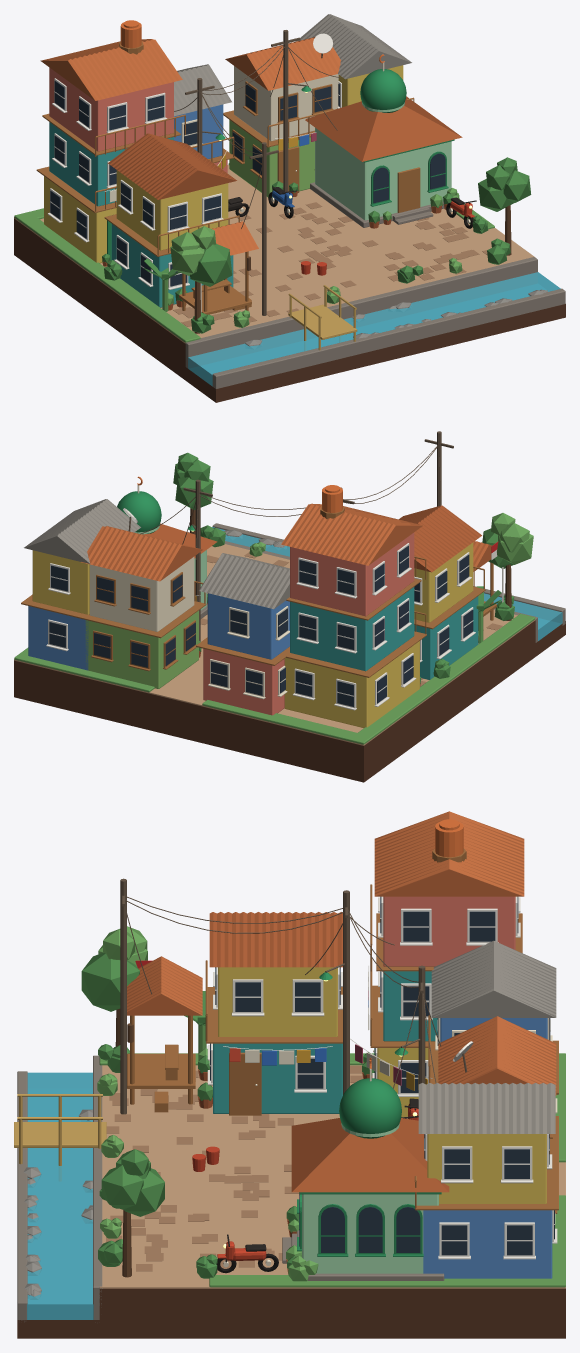
Rendered from lokasi1.glb.
The picture shows the model from 3 angles, top to bottom: view 1: azimuth 30°, elevation 25°; view 2: azimuth 150°, elevation 25°; view 3: azimuth 270°, elevation 25°; orthographic projection. The views are drawn at different scales.
Parts seen in each view (by area): view 1: lokasi1_static, lokasi1_water; view 2: lokasi1_static, lokasi1_water; view 3: lokasi1_static, lokasi1_water.
Part boxes in pixels (box(x1,y1,x2,y2)): lokasi1_static: box(14, 14, 565, 402); lokasi1_water: box(188, 272, 560, 386); lokasi1_static: box(14, 431, 565, 782); lokasi1_water: box(212, 527, 562, 640); lokasi1_static: box(14, 811, 565, 1338); lokasi1_water: box(27, 1072, 93, 1319).
Bounding box in the file's own units: 16.28 × 10.7 × 16.1.
